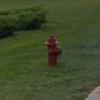Hydrant: (39, 29, 68, 69)
